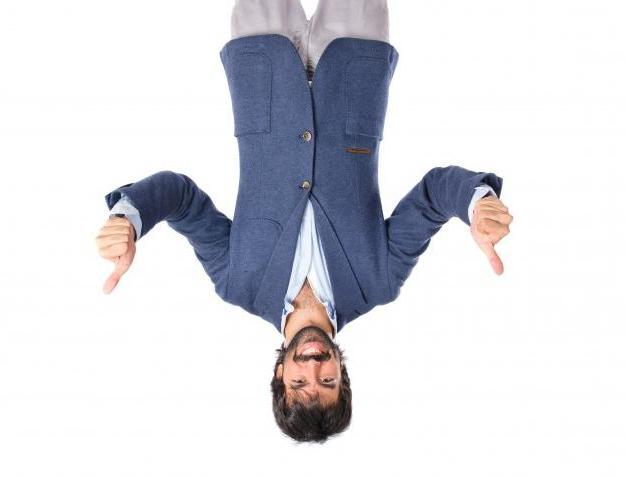thumbsdown: (472, 196, 513, 275), (96, 217, 132, 294)
